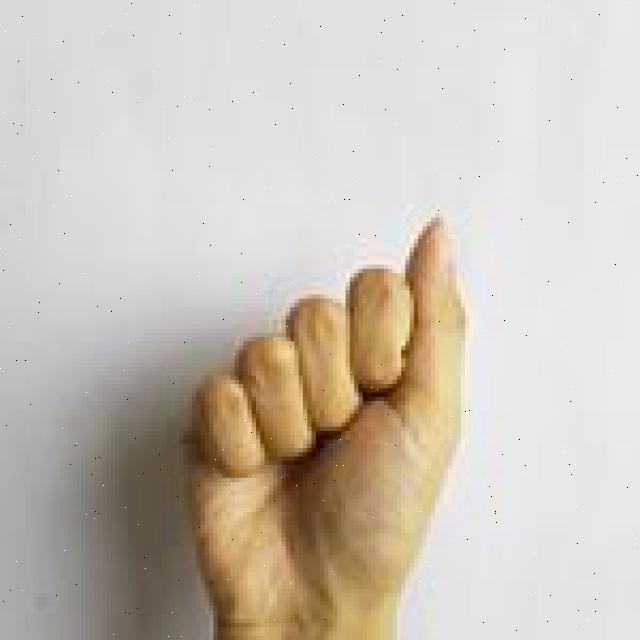A: (172, 208, 476, 640)
